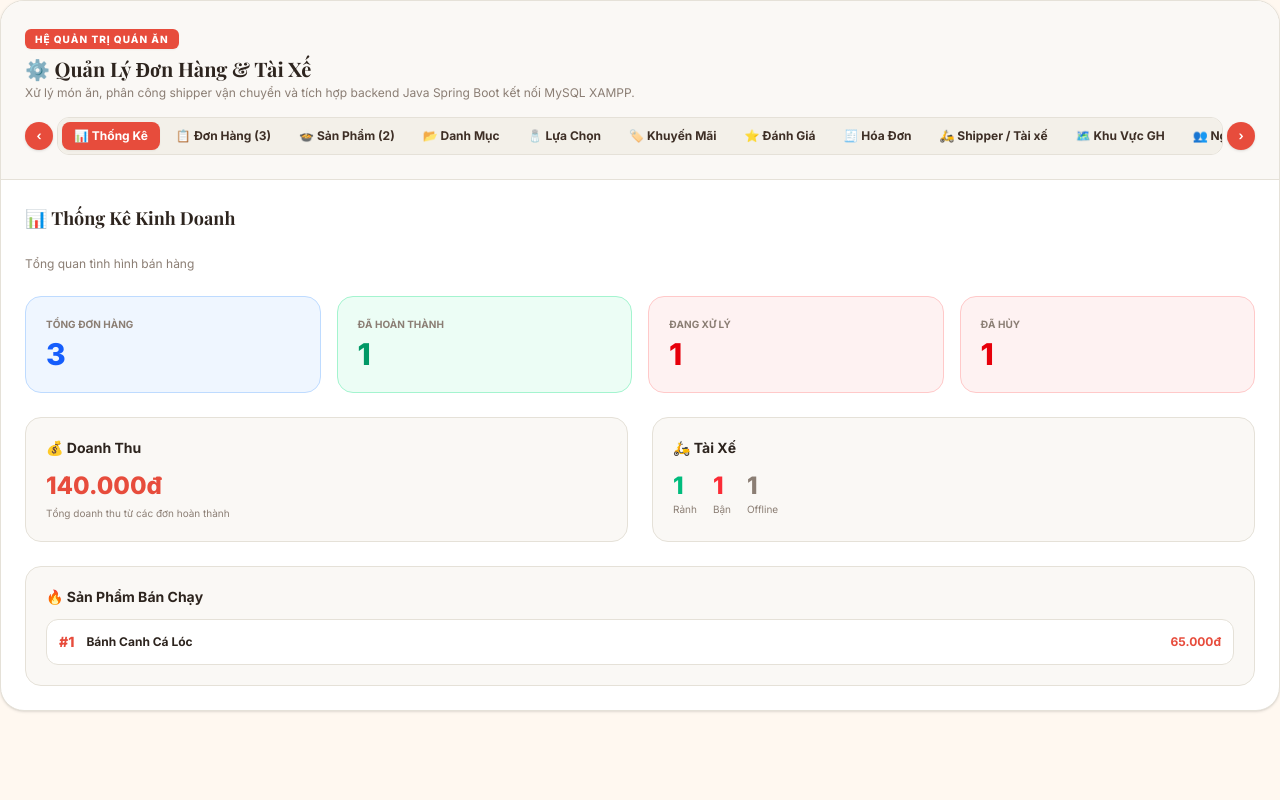
Test: AdminDashboard › Orders tab › shows order type in detail modal
Click the button "📋 Đơn Hàng (3)" at (224, 136), box [164,122,283,150]
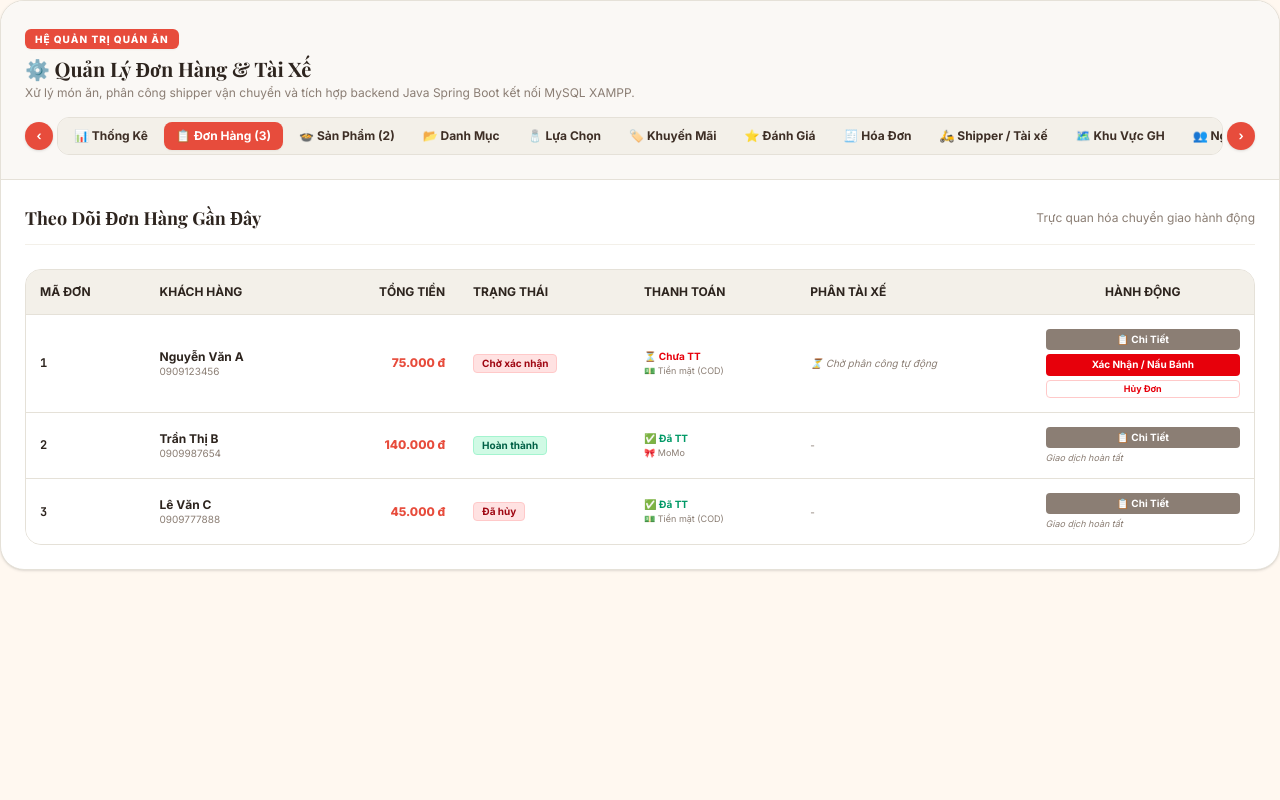
Click the 1st button "📋 Chi Tiết" at (1143, 340), box [1046,329,1240,350]
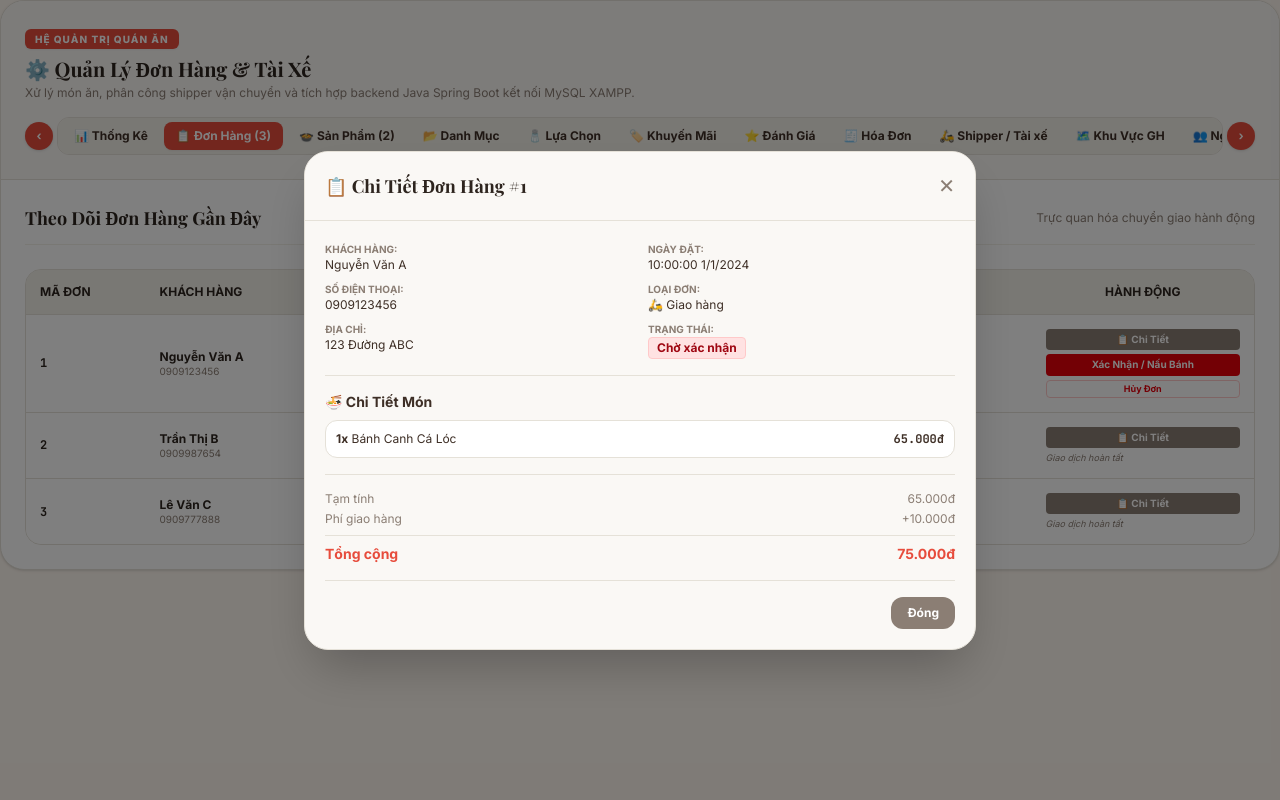
Check: the text "Loại đơn:🛵 Giao hàng" is shown, box [648,282,724,312]
Click the button "Đóng" at (923, 612), box [892,596,955,628]
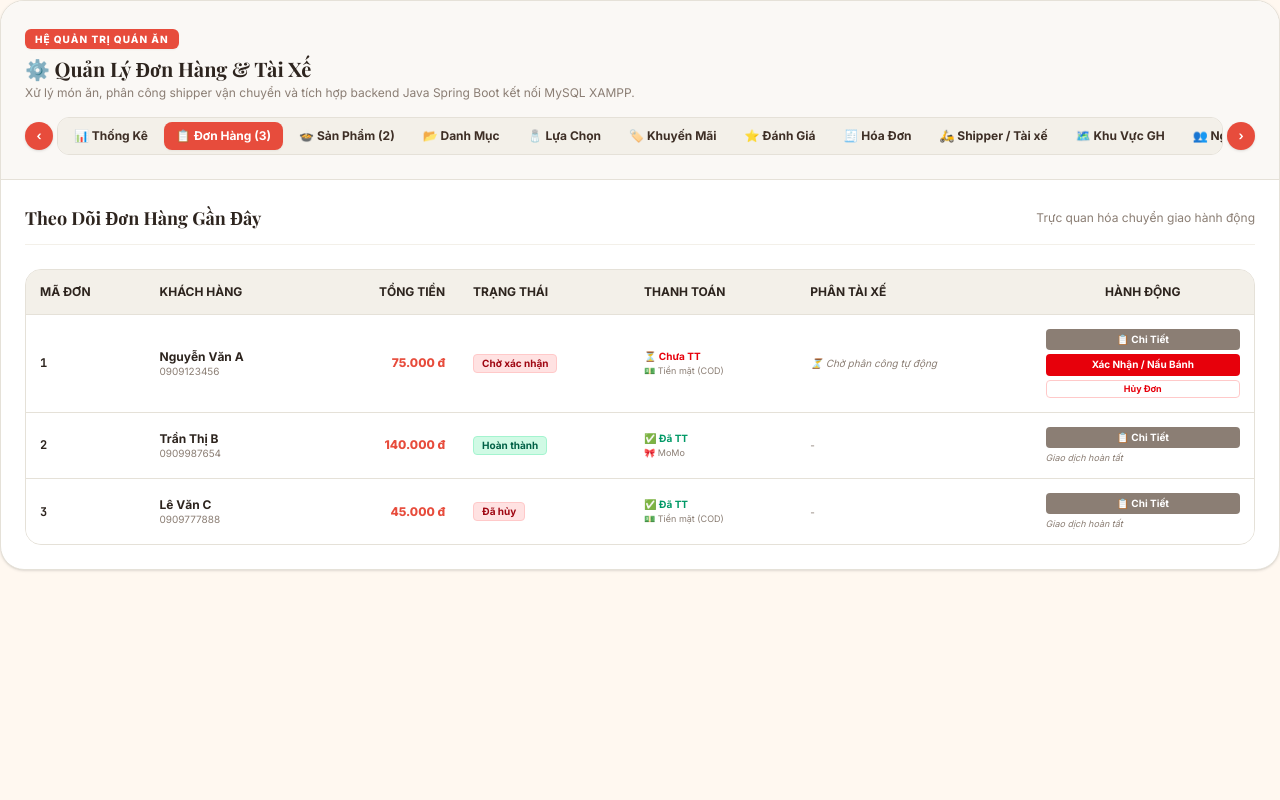
Click the button "📋 Chi Tiết" in the row of "Lê Văn C" at (1143, 504), box [1046,493,1240,514]
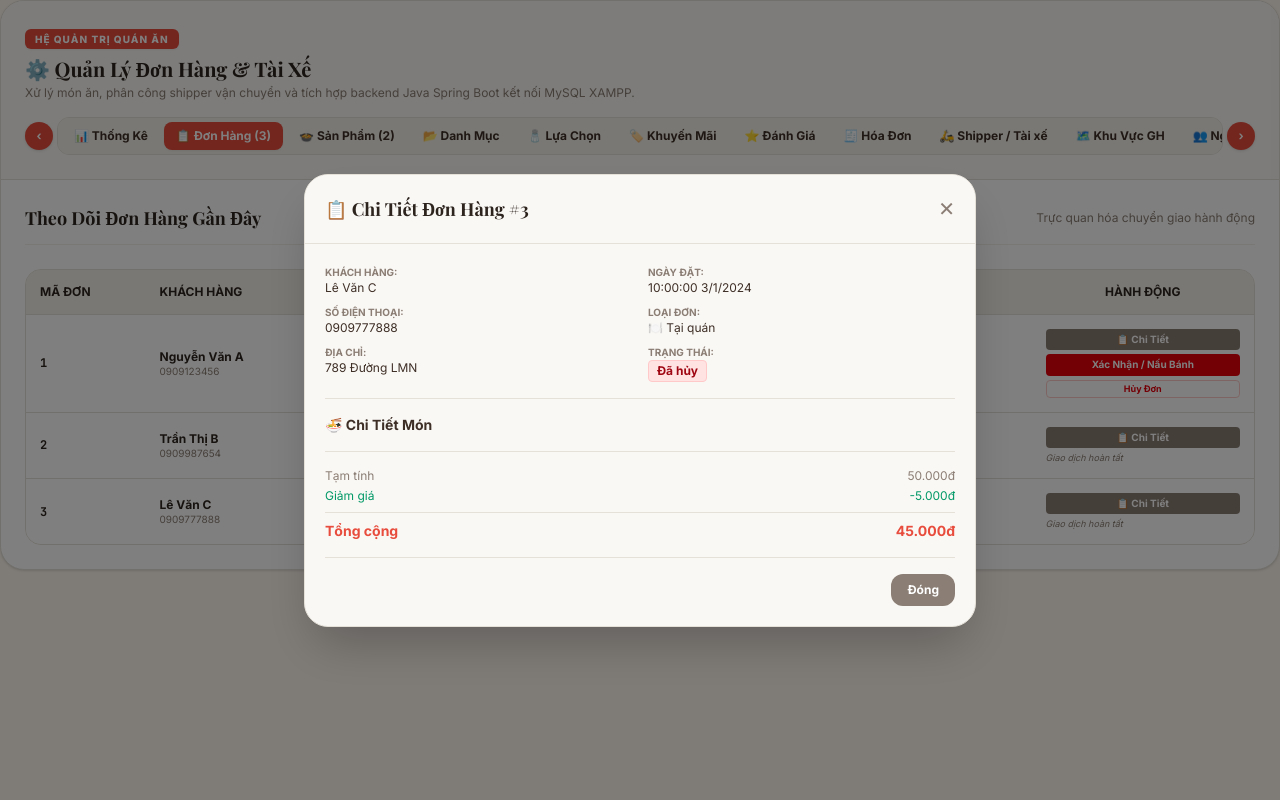
Check: the text "Loại đơn:🍽️ Tại quán" is shown, box [648,306,715,334]
